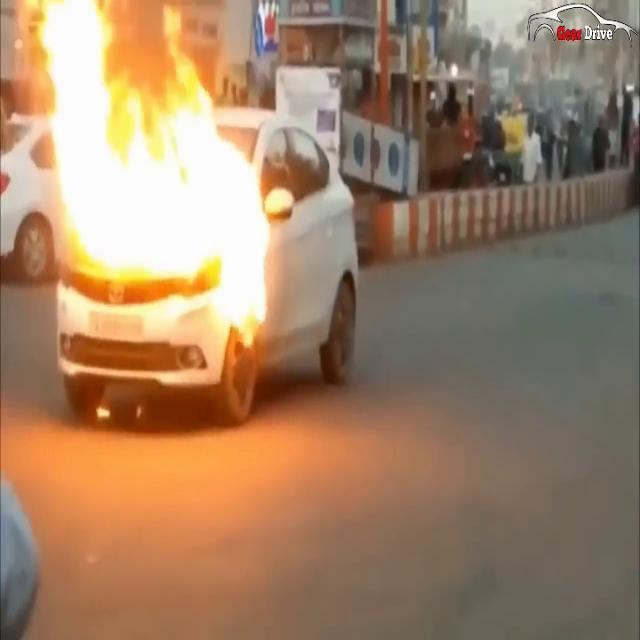Fire: (26, 0, 280, 326)
